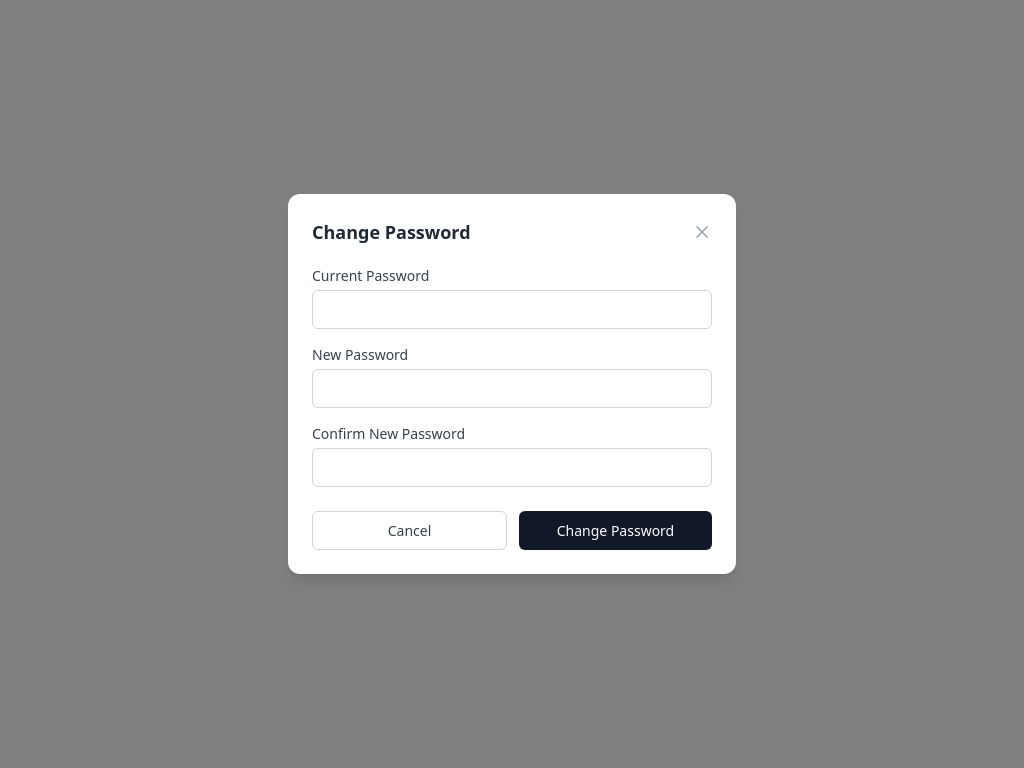
ChangePassword Component › should submit successfully and show success message
Type "old123" into the password field labelled "Current Password" at (512, 310), box left=312, top=290, right=712, bottom=329
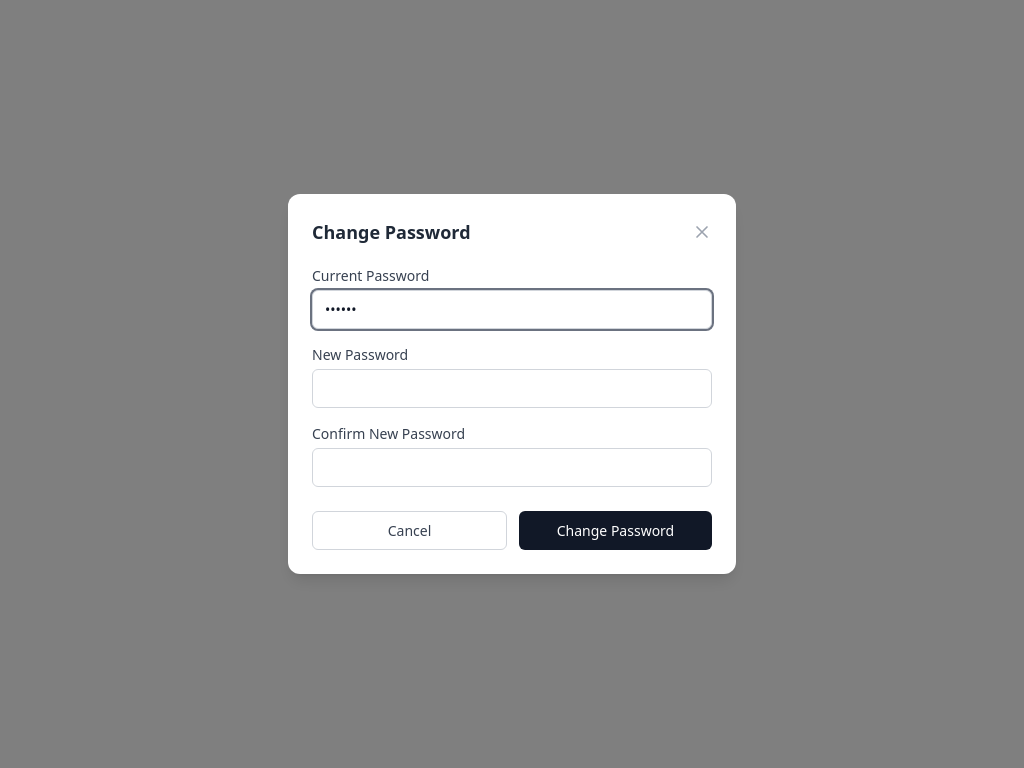
Type "newpass" into the password field labelled "New Password" at (512, 388), box left=312, top=369, right=712, bottom=408
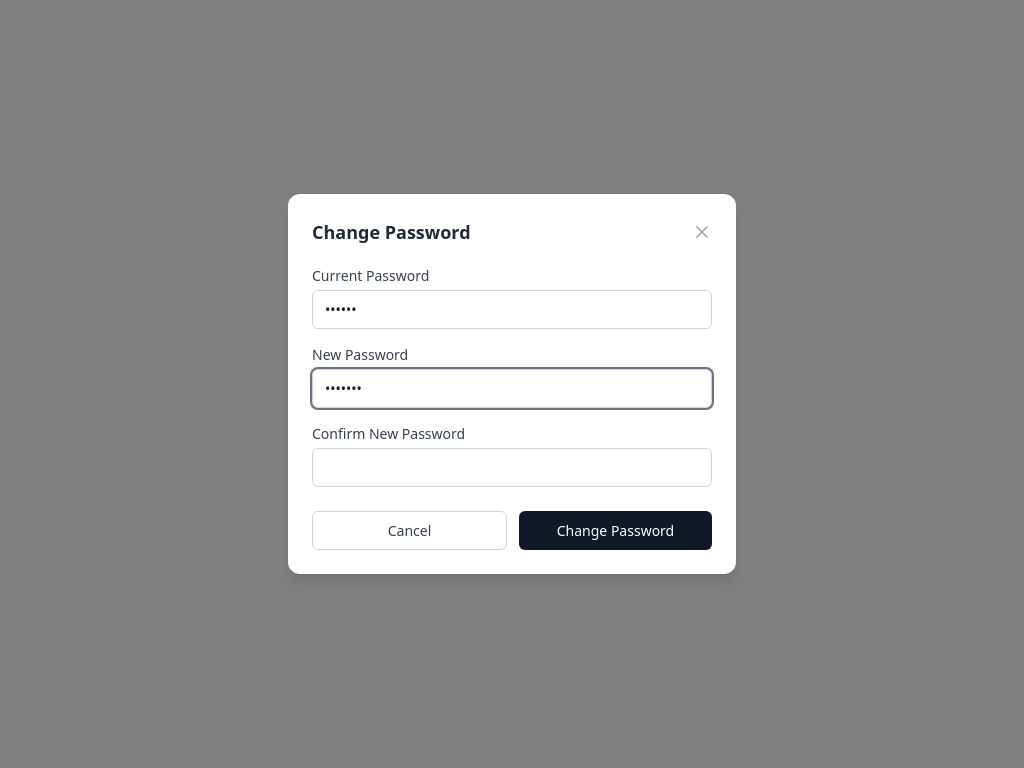
Type "newpass" into the password field labelled "Confirm New Password" at (512, 468), box left=312, top=448, right=712, bottom=487
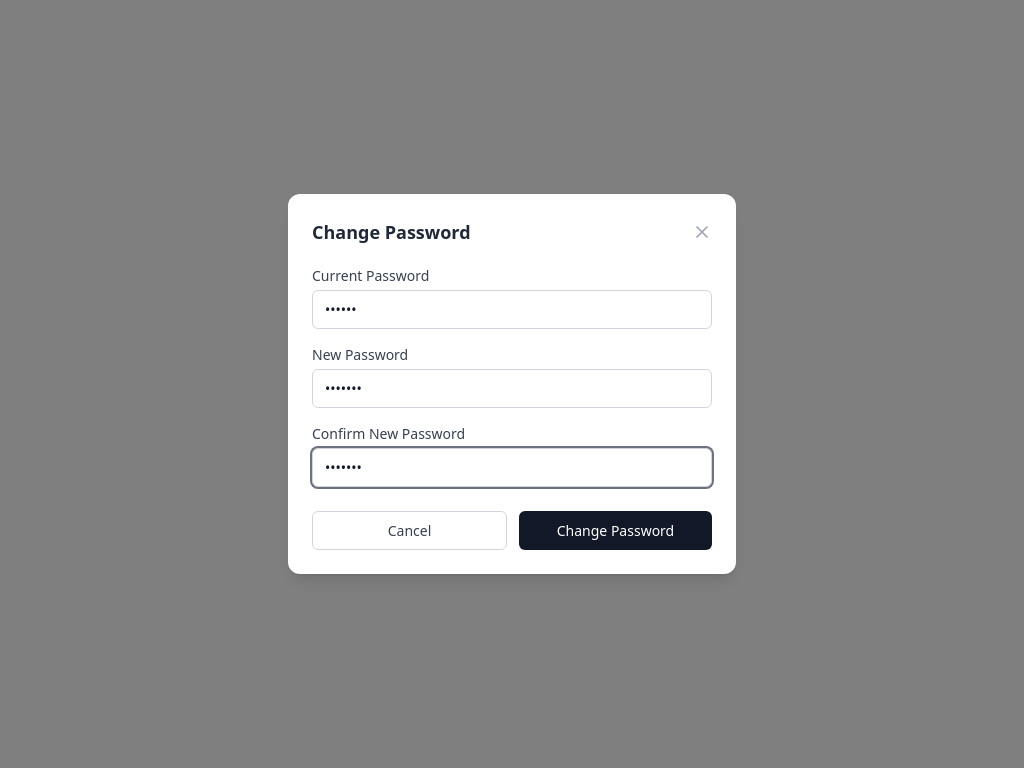
Click the button "Change Password" at (616, 530), box left=519, top=511, right=712, bottom=550
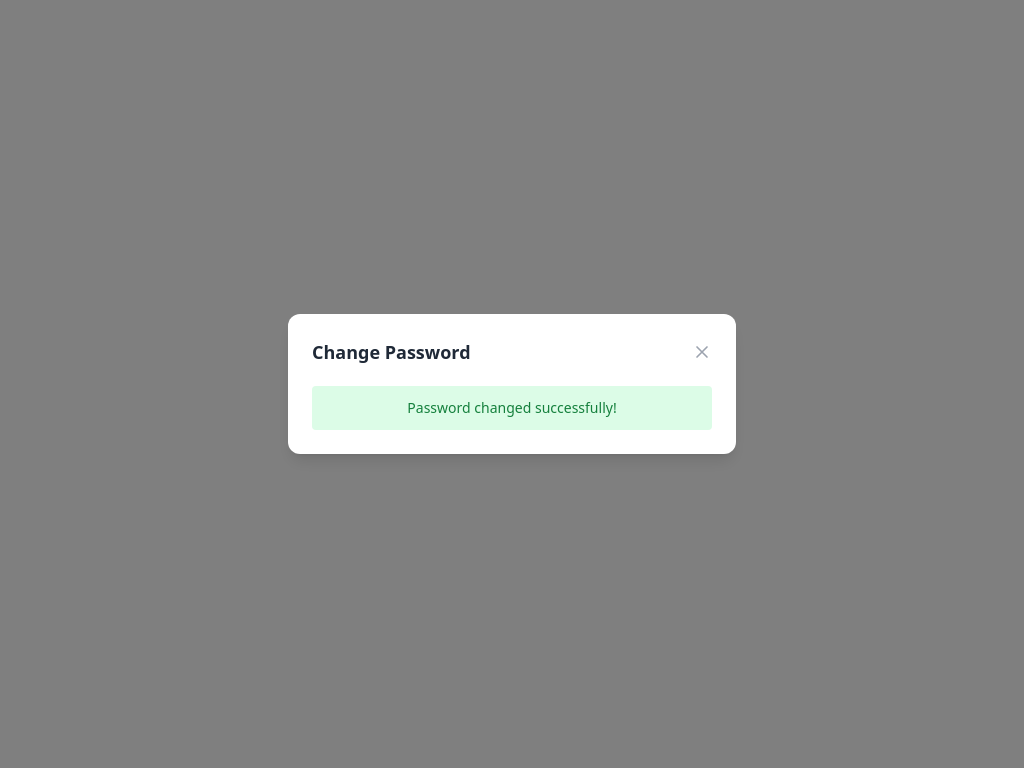
Expected: the text "Password changed successfully!" is shown, left=312, top=386, right=712, bottom=430
